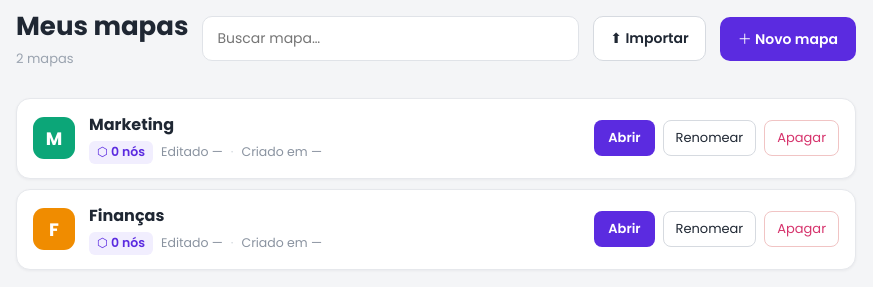
it: Library (tela de início) › filtra pela busca
Expected: the text "Marketing" is shown, left=89, top=113, right=174, bottom=136
In the field with placeholder "Buscar mapa…": coordinates (391, 38) left=202, top=16, right=579, bottom=61, type "fin"
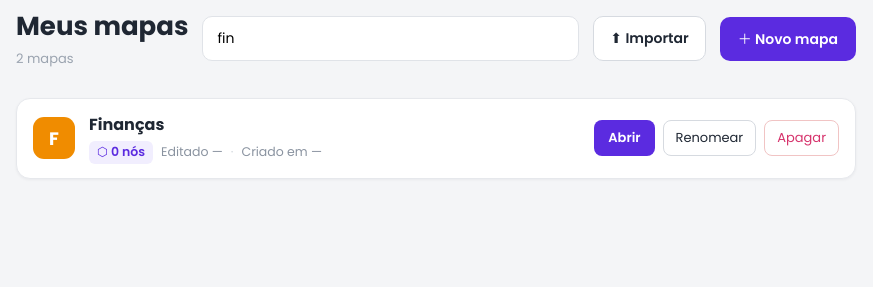
Expected: the text "Finanças" is shown, left=89, top=113, right=164, bottom=136
Expected: the text "Marketing" is gone
